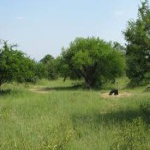Forest: (63, 37, 126, 85)
Uncultivated: (4, 73, 148, 150)
